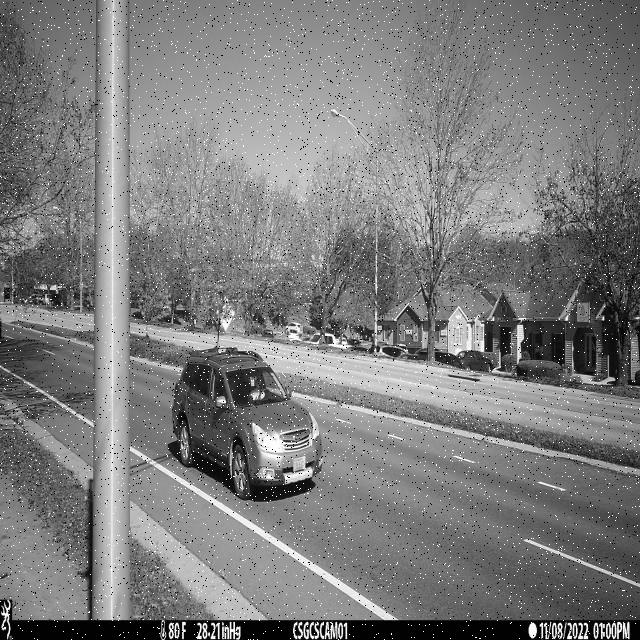SUV: (172, 346, 323, 500)
